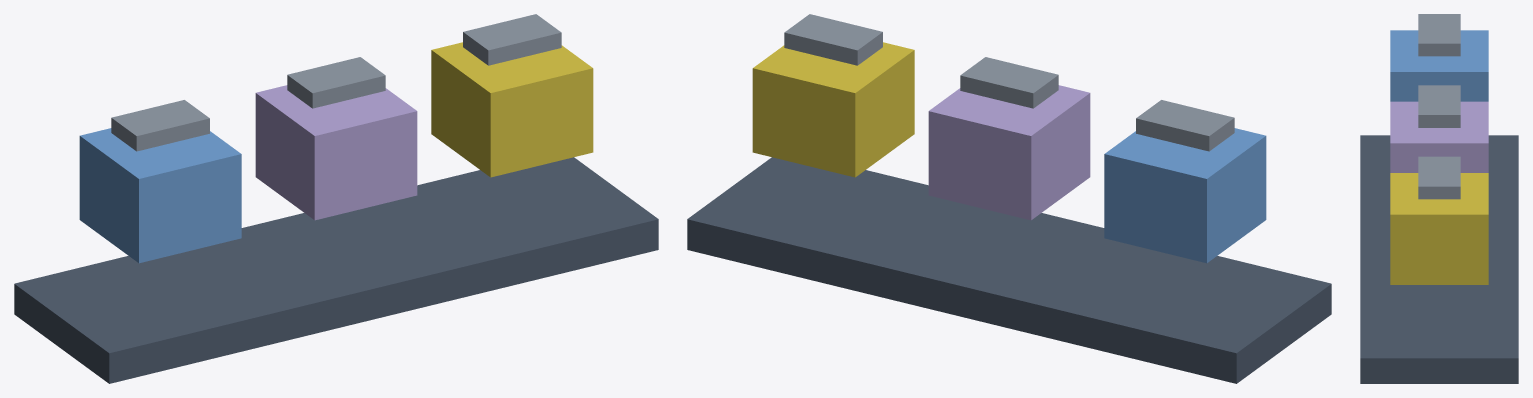
The model's file is VariablesTipos.glb.
The picture shows the model from 3 angles, left to right: view 1: azimuth 30°, elevation 25°; view 2: azimuth 150°, elevation 25°; view 3: azimuth 270°, elevation 25°; orthographic projection. The views are drawn at different scales.
Visible parts, largest first — view 1: n0, n2, n3, n1, n6, n4, n5; view 2: n0, n2, n3, n1, n6, n4, n5; view 3: n0, n3, n1, n2, n6, n4, n5.
Boxes of the visible parts, x1,y1,x2,y2 form: n0: [14, 157, 658, 383]; n2: [255, 85, 417, 220]; n3: [431, 42, 593, 177]; n1: [79, 128, 241, 263]; n6: [463, 14, 561, 65]; n4: [111, 100, 209, 151]; n5: [287, 57, 385, 108]; n0: [687, 157, 1331, 383]; n2: [928, 85, 1090, 220]; n3: [752, 42, 914, 177]; n1: [1104, 128, 1266, 263]; n6: [784, 14, 882, 65]; n4: [1136, 100, 1234, 151]; n5: [960, 57, 1058, 108]; n0: [1360, 135, 1518, 383]; n3: [1390, 173, 1488, 284]; n1: [1390, 30, 1488, 101]; n2: [1390, 101, 1488, 172]; n6: [1418, 156, 1460, 199]; n4: [1418, 14, 1460, 56]; n5: [1418, 85, 1460, 127].
Size of the model in its own units: 1.5 by 0.54 by 0.45.
